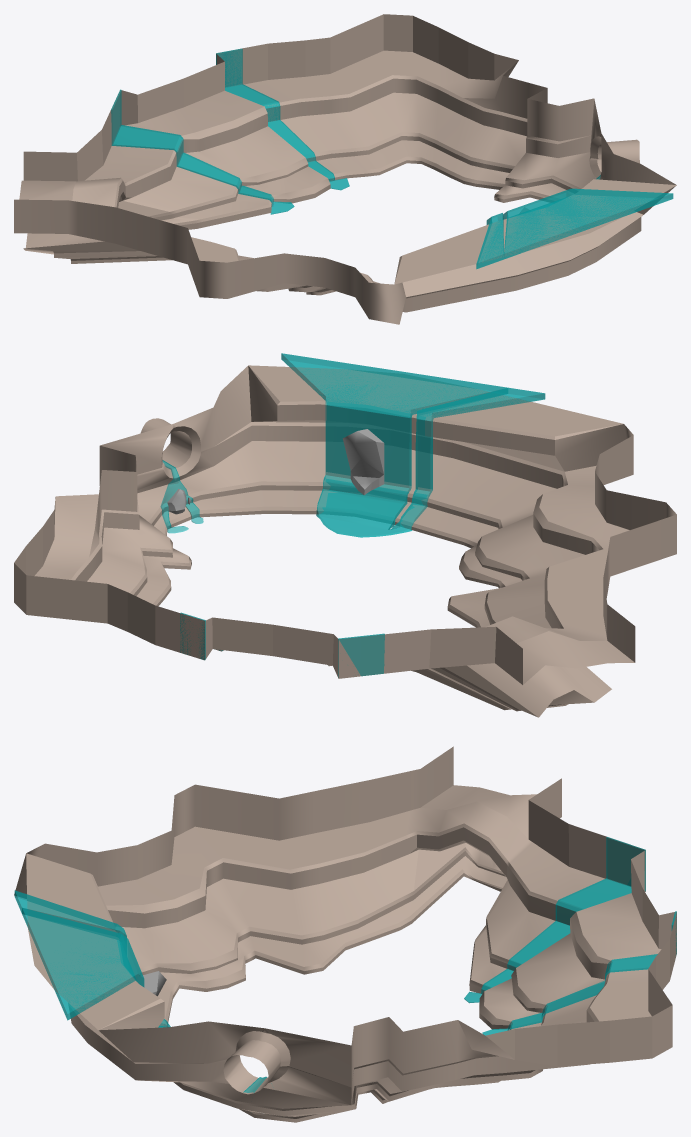
File: mesh_environment_wurm_1_mainstage.fbx
The picture shows the model from 3 angles, top to bottom: view 1: azimuth 30°, elevation 25°; view 2: azimuth 150°, elevation 25°; view 3: azimuth 270°, elevation 25°; orthographic projection. The views are drawn at different scales.
Parts seen in each view (by area): view 1: canyon16; view 2: canyon16; view 3: canyon16.
Boxes of the visible parts, x1,y1,x2,y2 form: canyon16: (14, 14, 676, 324); canyon16: (14, 353, 676, 717); canyon16: (14, 746, 676, 1122).
Bounding box in the file's own units: 7237 × 1197 × 6702.
